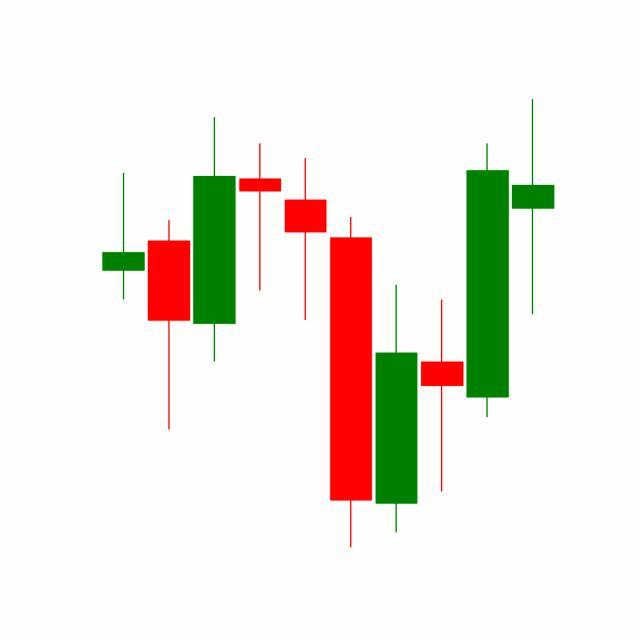Hikkake Pattern: (283, 139, 512, 549)
